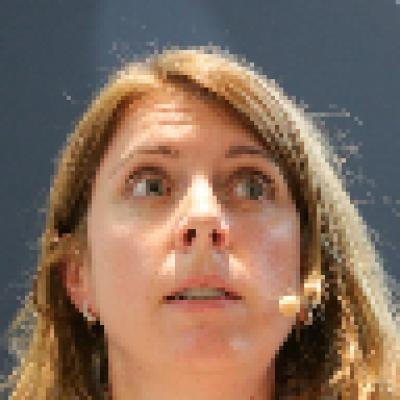surprise: (90, 78, 303, 355)
